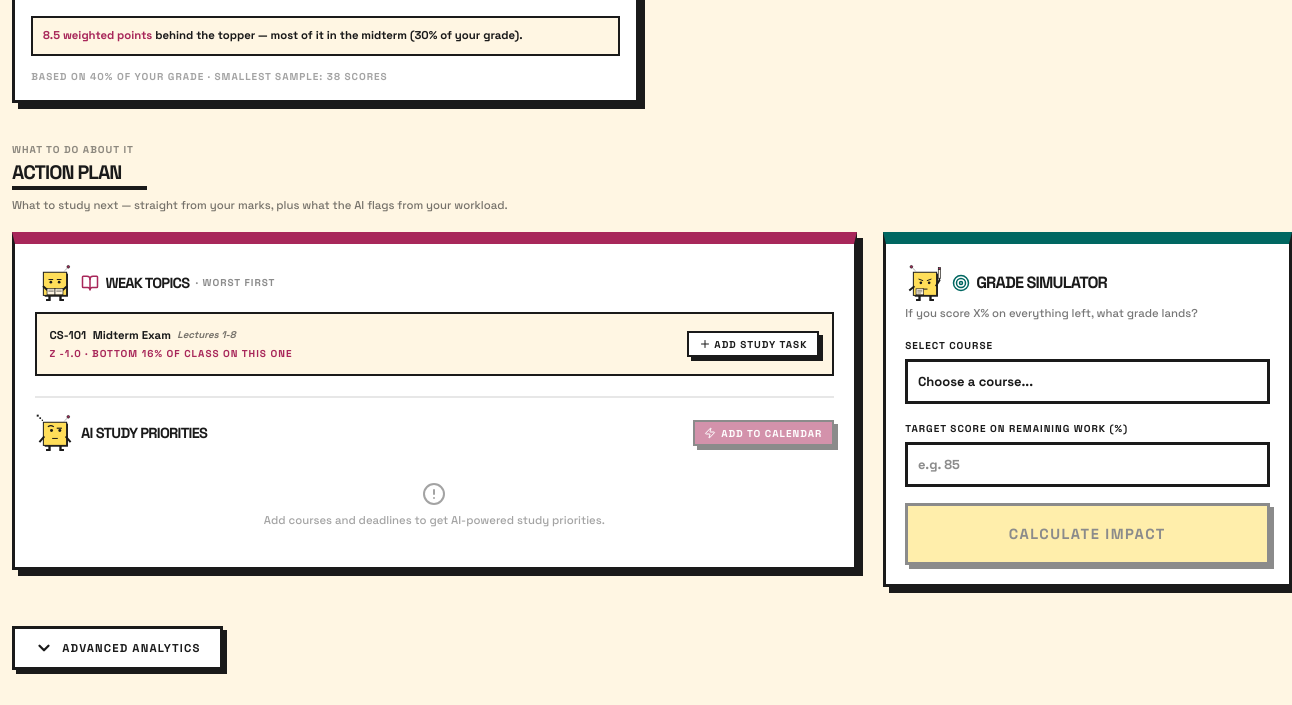
Test: Analytics — Weak Topics › lists the below-average deliverable with its lecture range and adds a study task on click
(page scrolled)
Check: the heading "Weak Topics" is shown, box [106,272,189,294]
Check: the text "Midterm Exam" is shown, box [93,327,171,343]
Click the button "Add study task" at [753, 344], box [687,331,819,357]
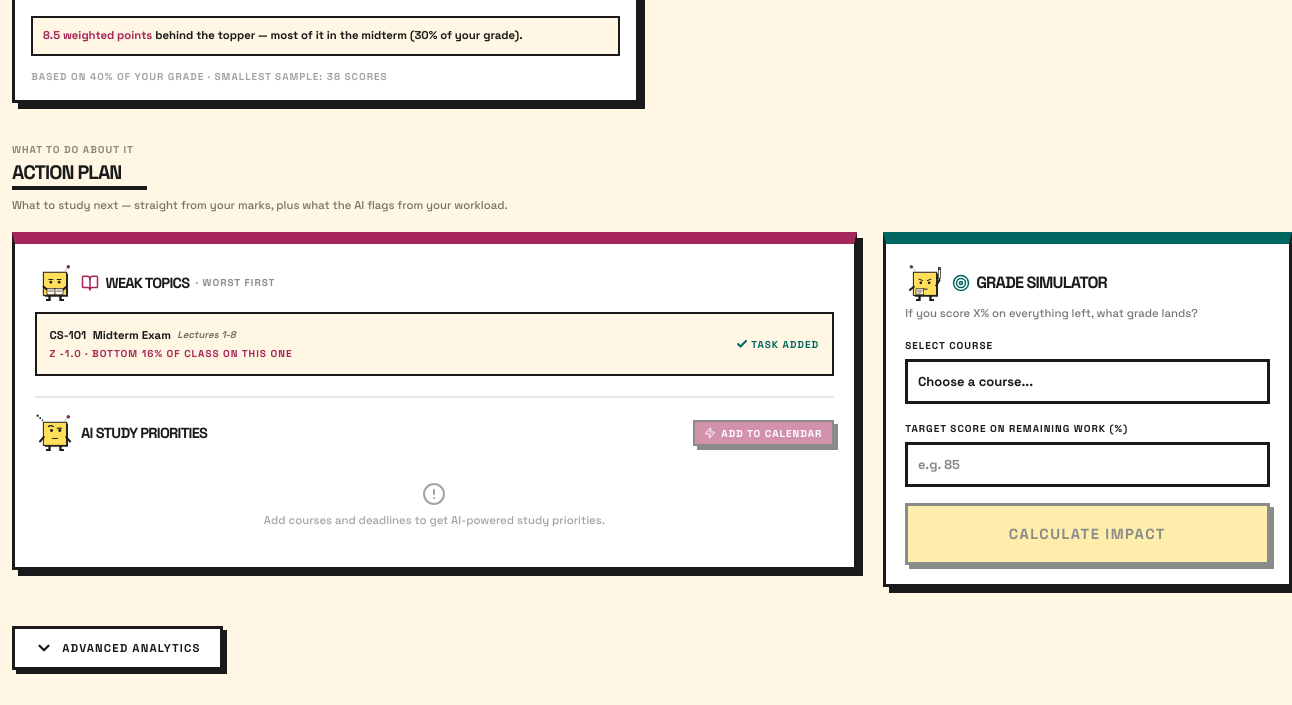
Check: the text "Task added" is shown, box [736,337,819,352]
Check: the button "Add study task" is gone
